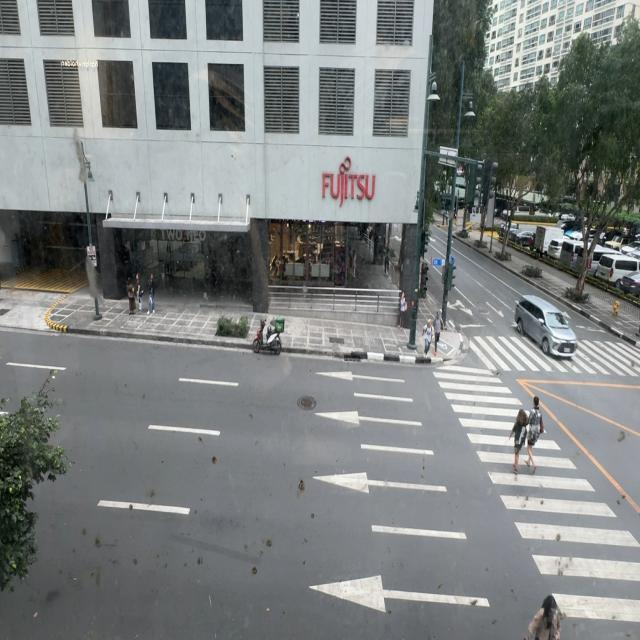jaywalking: (528, 591, 570, 640)
